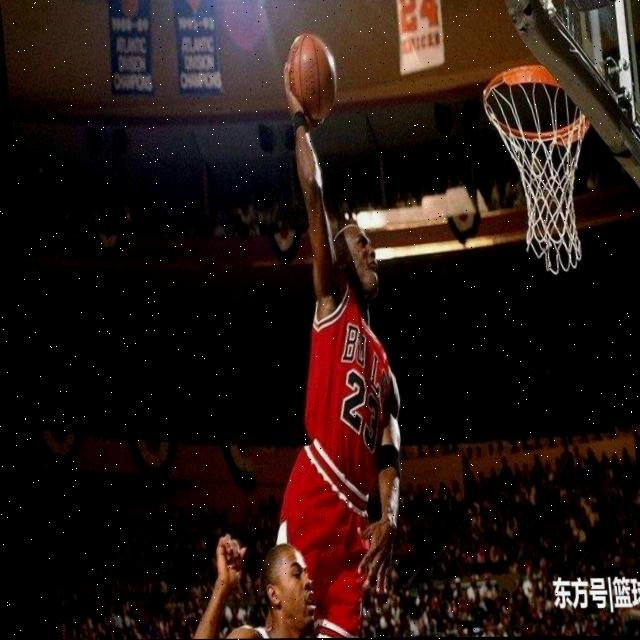basketball: (286, 33, 343, 124)
hoop: (479, 62, 604, 274)
